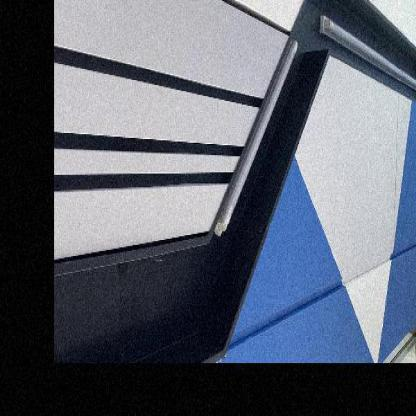light_off: (208, 24, 300, 243), (314, 0, 415, 126)
